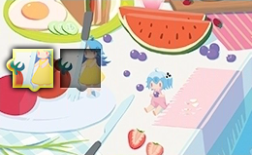gap: (54, 49, 102, 91)
